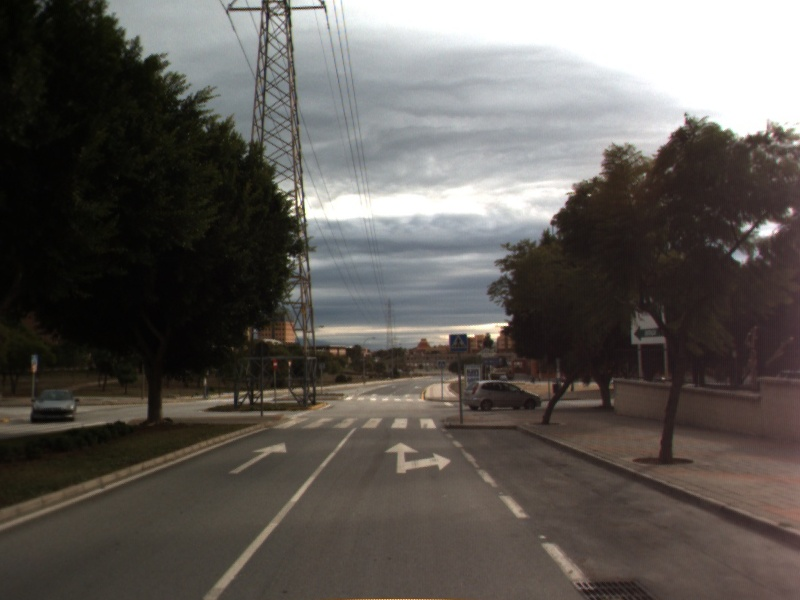STRAIGHT: (226, 439, 289, 476)
STRAIGHT_RIGHT: (383, 440, 453, 475)
